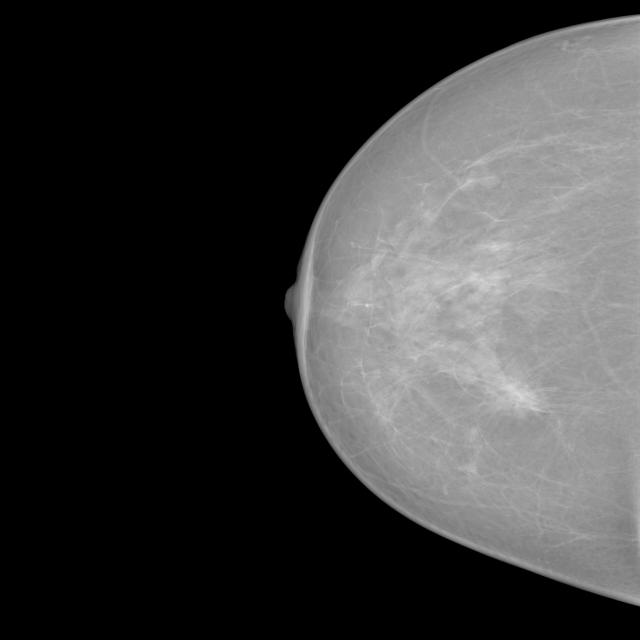Mass_1: (448, 358, 578, 433)
